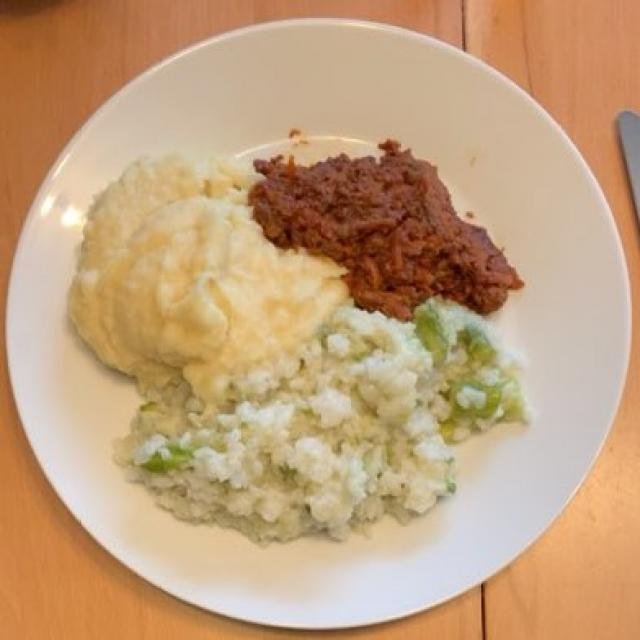green-asparagus: (144, 315, 528, 480)
mashed-potatoes-prepared-with-full-fat-milk-with-butter: (80, 155, 357, 389)
risotto-without-cheese-cooked: (120, 304, 508, 524)
